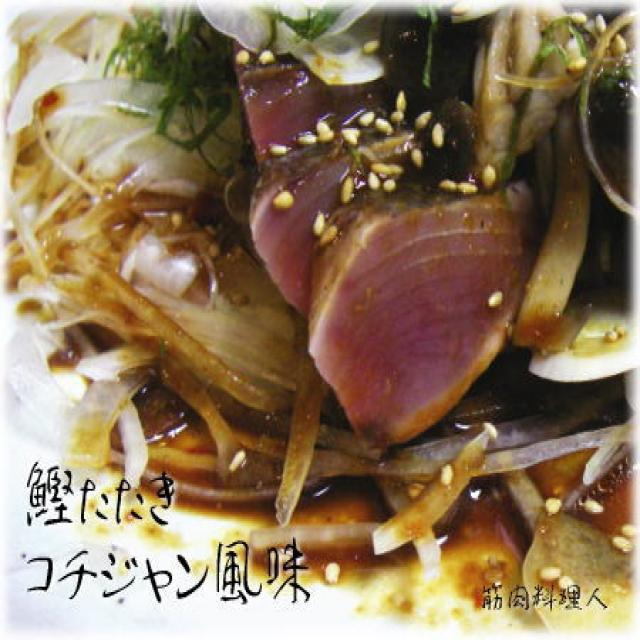熟制海鲜: (169, 0, 640, 448)
